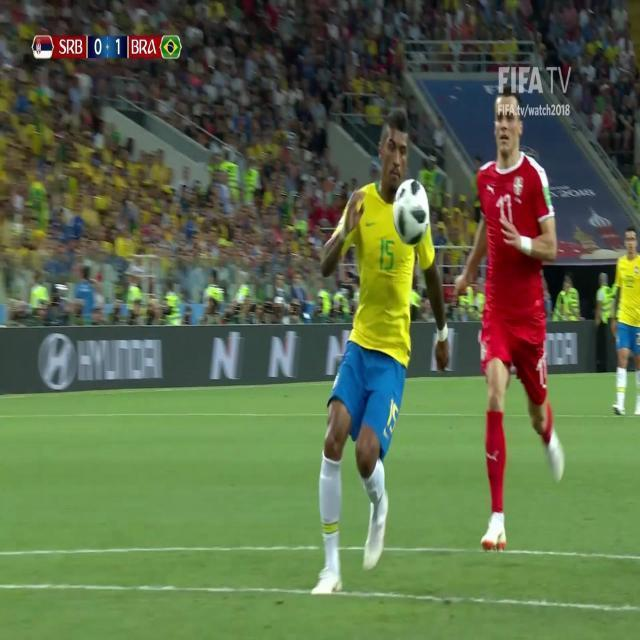ball: (390, 173, 433, 248)
player: (293, 104, 456, 605), (445, 74, 577, 562), (605, 216, 640, 419)
